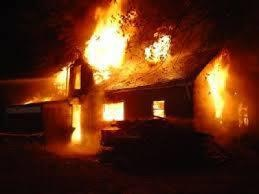fire: (83, 0, 135, 74), (197, 51, 230, 123), (140, 33, 174, 63), (100, 100, 124, 122)
